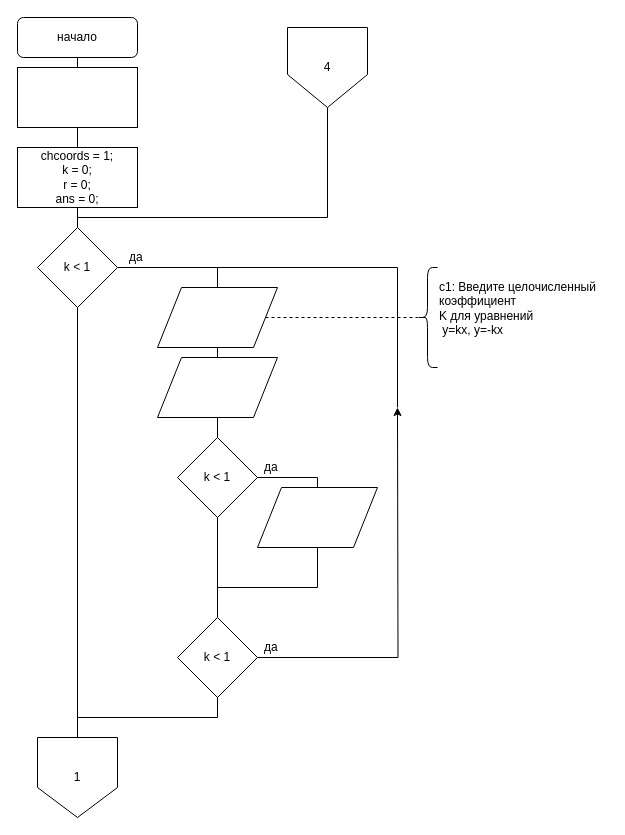
The diagram is 625 pixels wide and 835 high, and some of its shapes have lost their labels. Here are the shapes that lost their labels. From the top down, the box of each, then its label:
(16, 66, 138, 128): float x,y; int k,r,repeat,chcoords, ans
(156, 286, 278, 348): Вывод с1
(156, 356, 278, 418): Ввод k
(256, 486, 378, 548): Вывод "К должно быть больше нуля"
